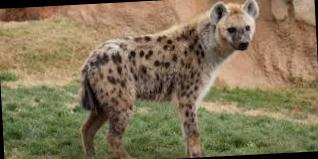hyenas: (53, 0, 285, 154)
